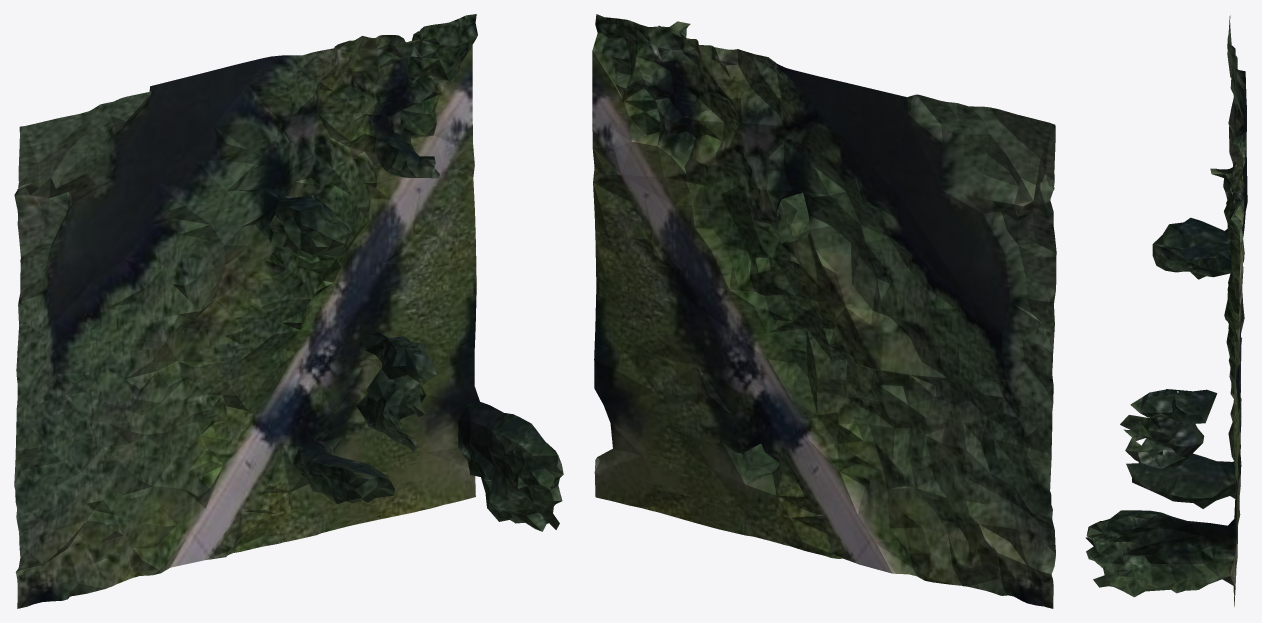
Rendered from Tile_+032_+024_L18_00031.obj.
The picture shows the model from 3 angles, left to right: view 1: azimuth 30°, elevation 25°; view 2: azimuth 150°, elevation 25°; view 3: azimuth 270°, elevation 25°; orthographic projection. The views are drawn at different scales.
Bounding box in the file's own units: 63 × 63.5 × 22.95.
Materials: 1 (1 with a texture image).
